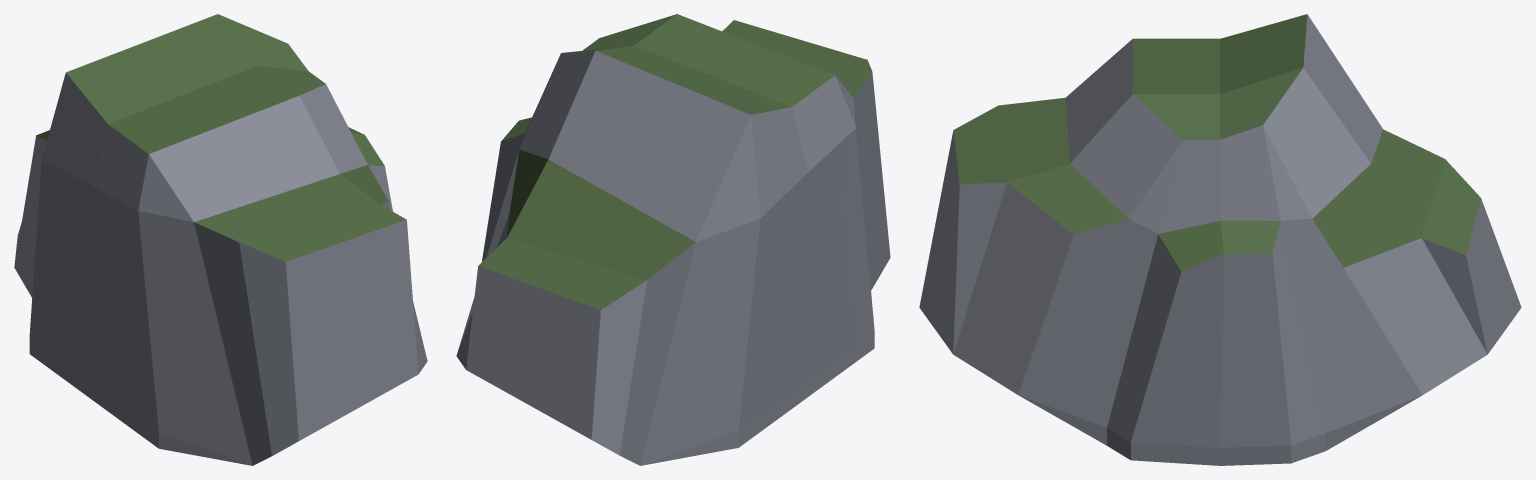
The model's file is rock_moss_4.glb.
The picture shows the model from 3 angles, left to right: view 1: azimuth 30°, elevation 25°; view 2: azimuth 150°, elevation 25°; view 3: azimuth 270°, elevation 25°; orthographic projection. The views are drawn at different scales.
Parts seen in each view (by area): view 1: rock_moss_4; view 2: rock_moss_4; view 3: rock_moss_4.
Part boxes in pixels (x1,y1,x2,y2): rock_moss_4: (14, 14, 427, 465); rock_moss_4: (456, 14, 890, 465); rock_moss_4: (919, 14, 1521, 465).
Size of the model in its own units: 0.7436 by 0.7836 by 1.25.
Materials: 1 (1 with a texture image).
